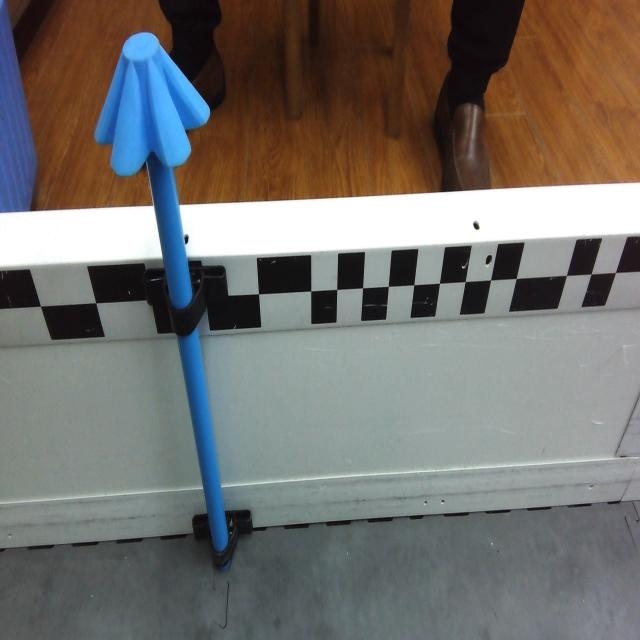zblue-Stake-Head: (95, 31, 210, 180)
